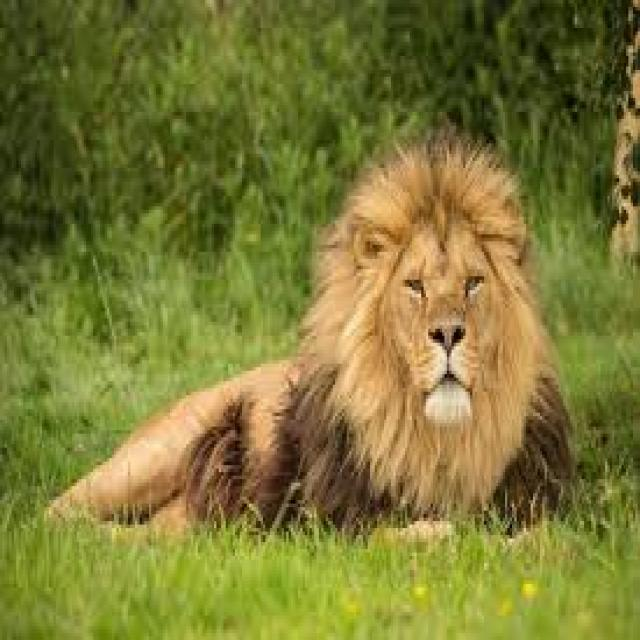Lion: (47, 143, 566, 522)
